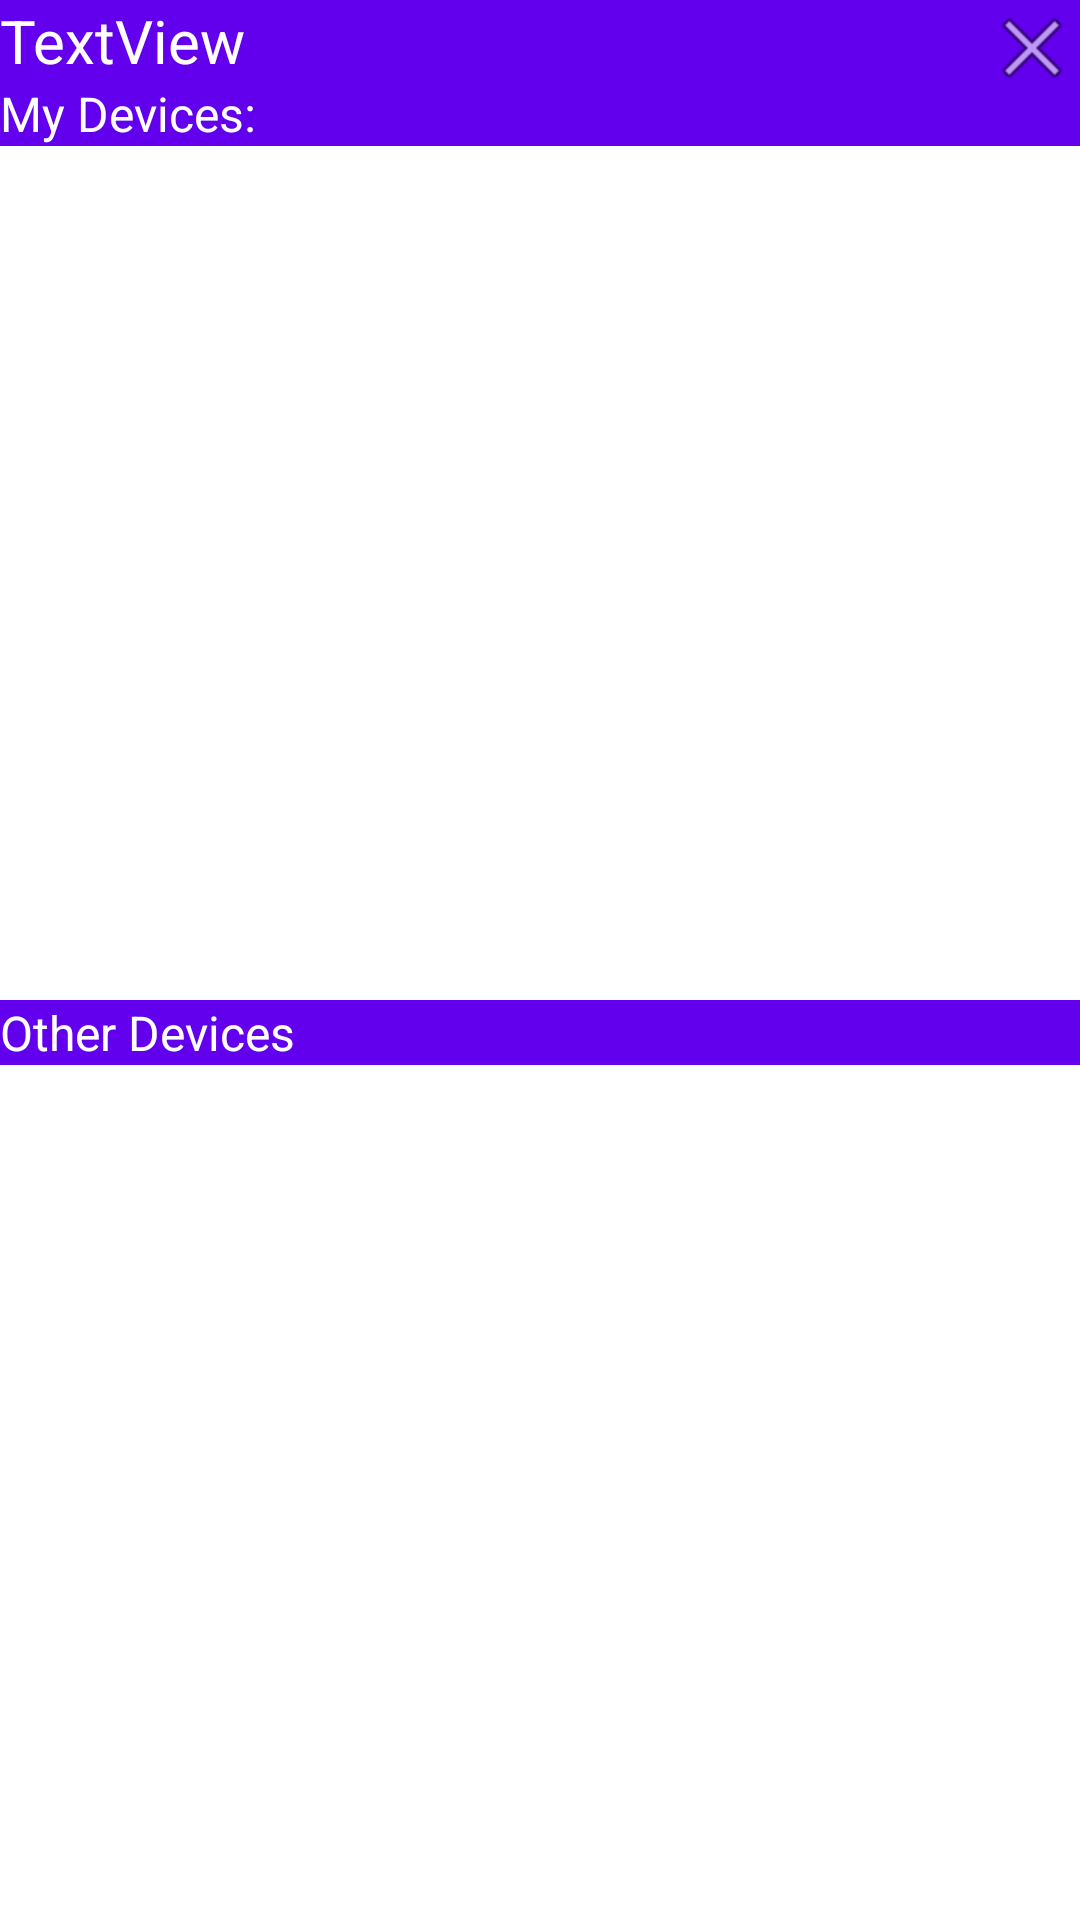

Screen size 1080w x 1920h. Icon name, then its center in pixels as (x,y):
close clear cancel: (1032,48)
